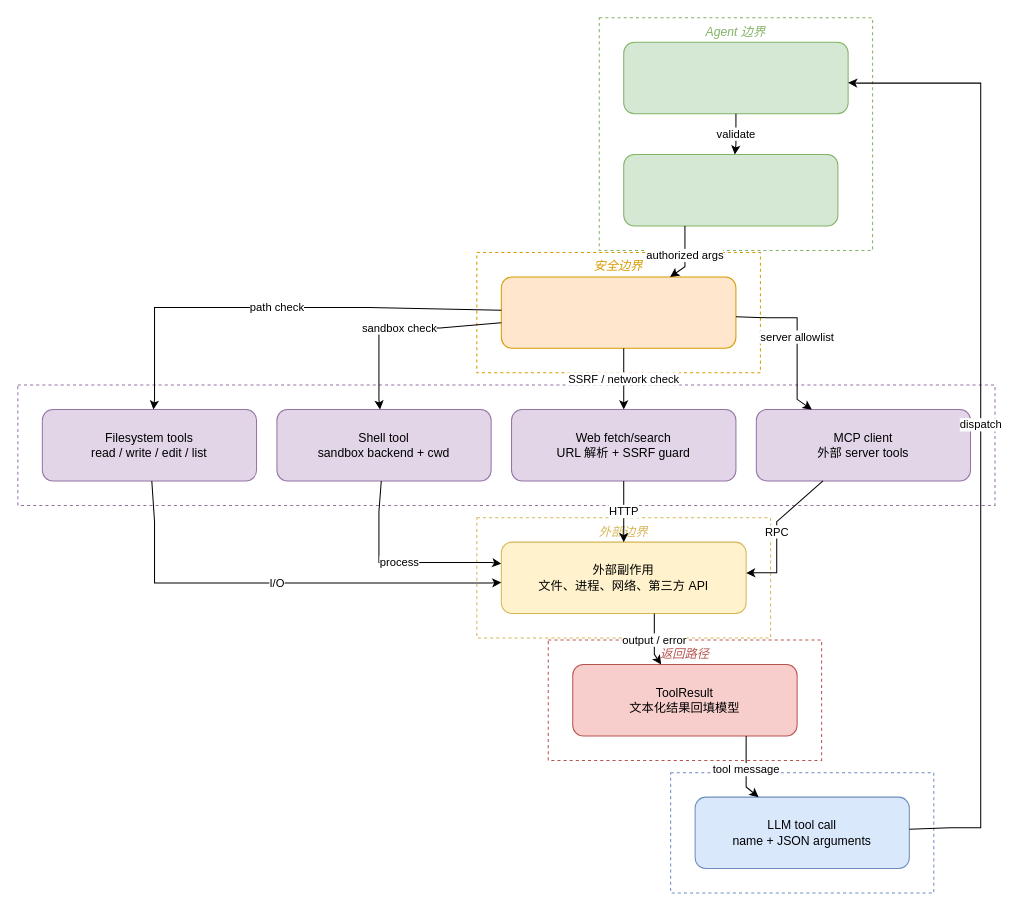
Image size: 1019x911. Some labels were removed from this diagram. Here are the shapes that lost their labels. From the top down, the box of each, then its label:
(623, 41, 848, 114): ToolRegistry 发现 + schema + dispatch
(623, 154, 838, 226): 参数校验 缺失字段 / 类型 / enum
(500, 276, 736, 348): 权限策略 workspace / allowlist / timeout
(17, 384, 995, 505): 工具实现
(670, 772, 934, 893): 请求方
